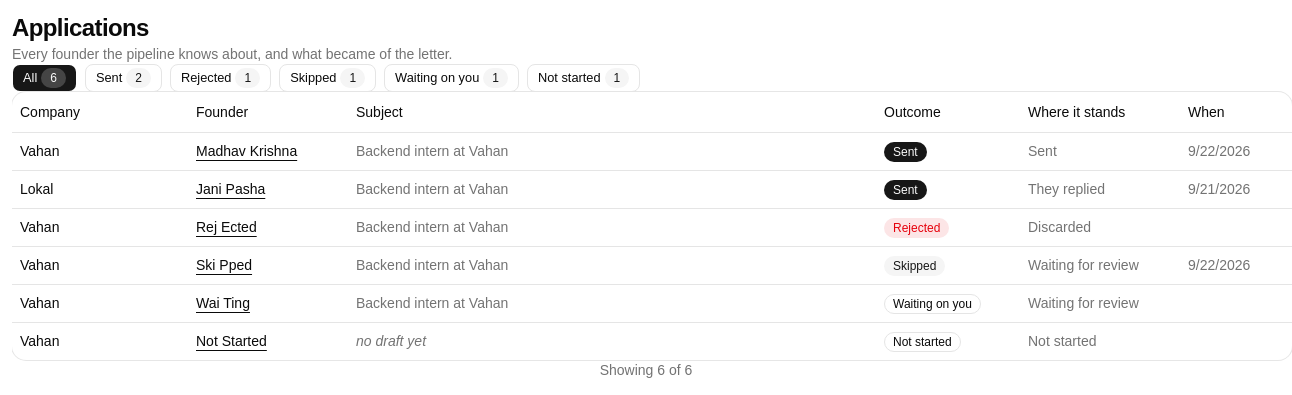
Test: tells a skipped letter apart from one not yet reached
Click the button "Skipped 1". click: (328, 78)
box: [279,64,376,92]
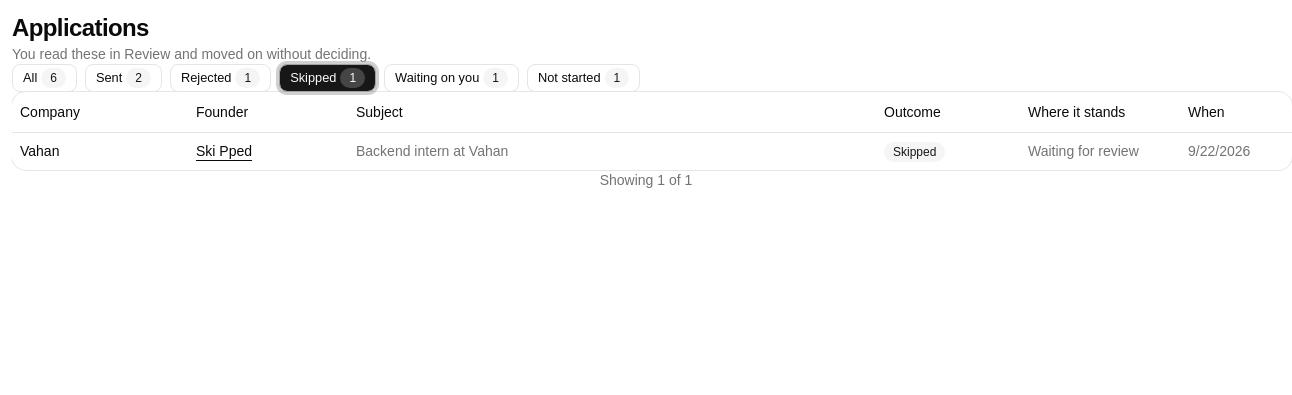
Expected: the link "Ski Pped" is shown, [196,143,252,159]
Result: the link "Wai Ting" is gone
